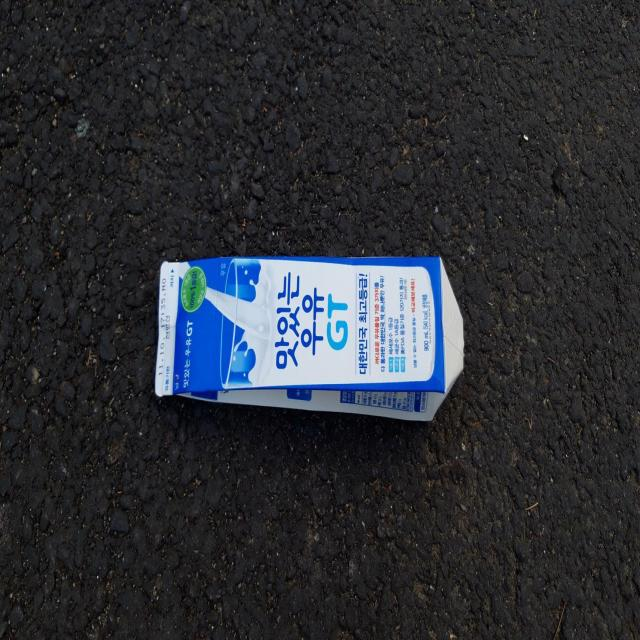paperpack: (154, 257, 465, 421)
